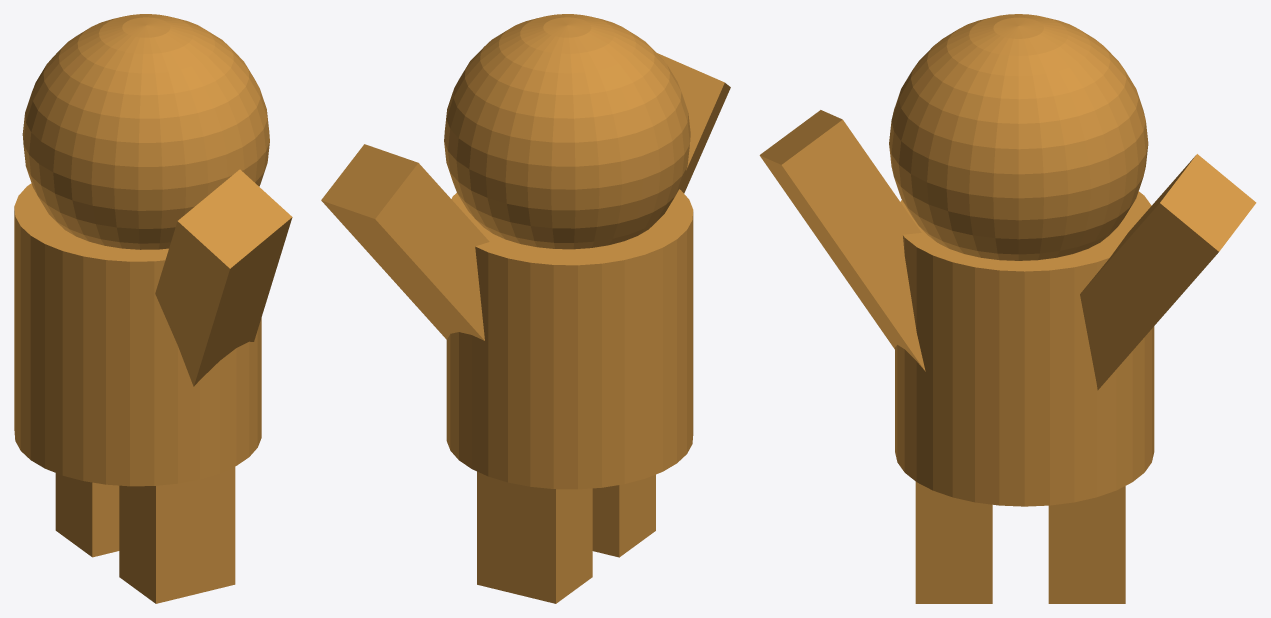
The model's file is boy.fbx.
3 views of the same model, side by side, from view 1: azimuth 30°, elevation 25°; view 2: azimuth 150°, elevation 25°; view 3: azimuth 270°, elevation 25° (orthographic). The views are drawn at different scales.
Parts seen in each view (by area): view 1: Cylinder, Sphere, Cube.002, Cube, Cube.001; view 2: Cylinder, Sphere, Cube.003, Cube.001, Cube, Cube.002; view 3: Cylinder, Sphere, Cube.002, Cube.003, Cube, Cube.001.
Boxes of the visible parts, x1=… form: Cylinder: x1=14, y1=183, x2=261, y2=486; Sphere: x1=22, y1=14, x2=269, y2=249; Cube.002: x1=155, y1=169, x2=292, y2=386; Cube: x1=119, y1=467, x2=235, y2=603; Cube.001: x1=55, y1=473, x2=119, y2=557; Cylinder: x1=446, y1=189, x2=693, y2=489; Sphere: x1=444, y1=14, x2=690, y2=249; Cube.003: x1=321, y1=144, x2=489, y2=340; Cube.001: x1=477, y1=471, x2=592, y2=603; Cube: x1=592, y1=474, x2=655, y2=557; Cube.002: x1=656, y1=52, x2=730, y2=193; Cylinder: x1=895, y1=191, x2=1154, y2=506; Sphere: x1=889, y1=14, x2=1148, y2=260; Cube.002: x1=759, y1=110, x2=925, y2=371; Cube.003: x1=1080, y1=154, x2=1256, y2=390; Cube: x1=915, y1=482, x2=992, y2=603; Cube.001: x1=1048, y1=486, x2=1125, y2=603.
Size of the model in its own units: 246 by 474 by 383.
